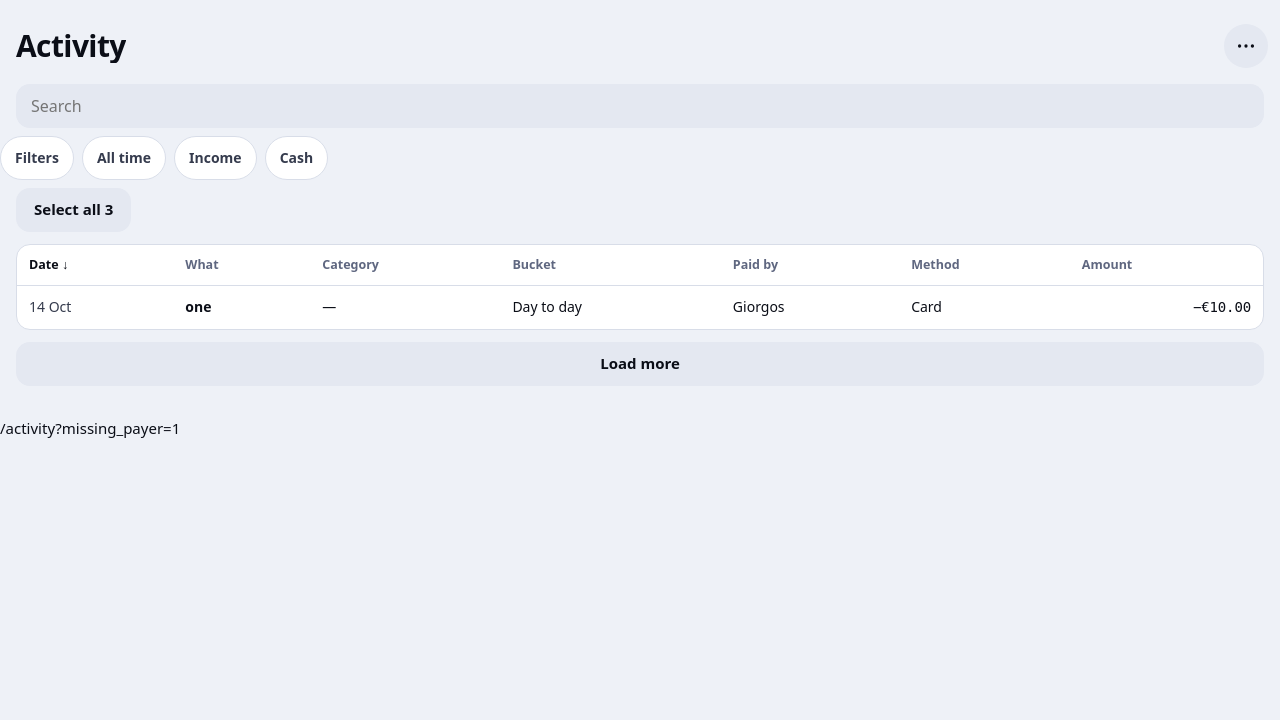
Test case: BulkSheet from Activity › a filter selection shows no total until a preview gives one
The width and height of the screenshot is (1280, 720).
Click the button "Select all 3".
click(74, 210)  # box [16,188,131,232]
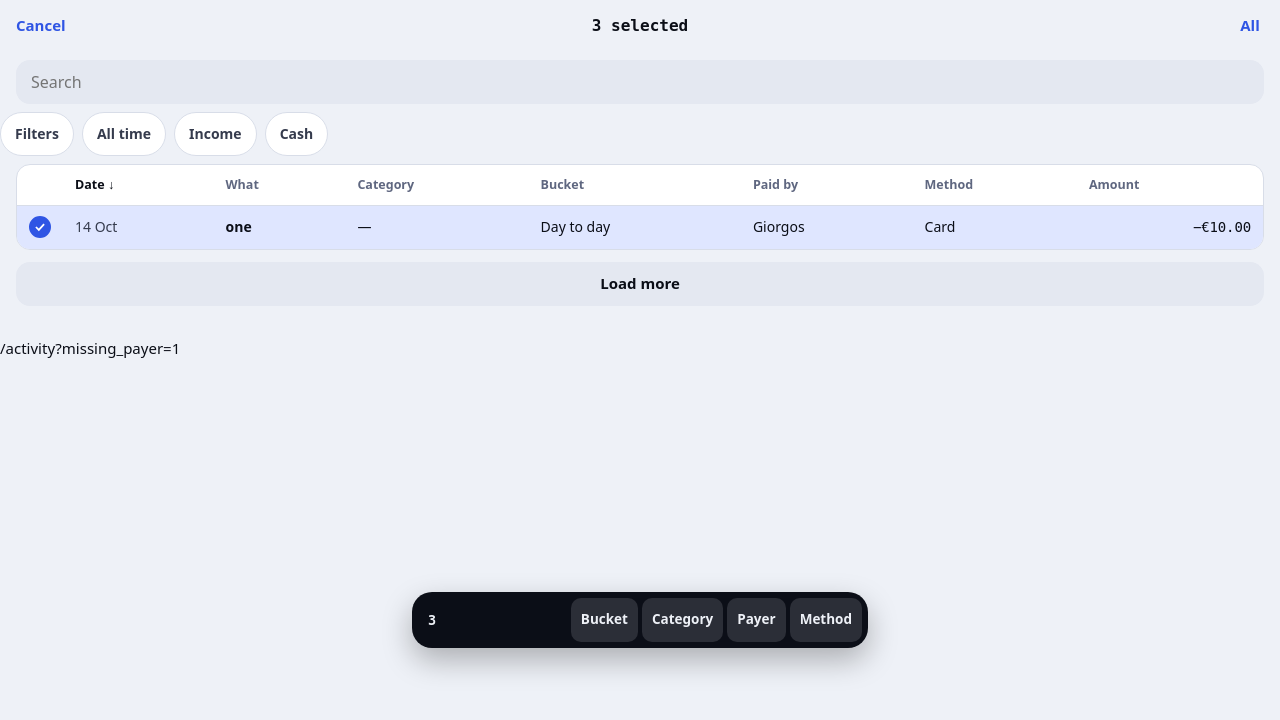
Expected: the element named "Bulk actions for 3 selected" does not show "€", [412,592,868,648]
Click the button "Bucket".
click(604, 620)  # box [571,598,638,642]
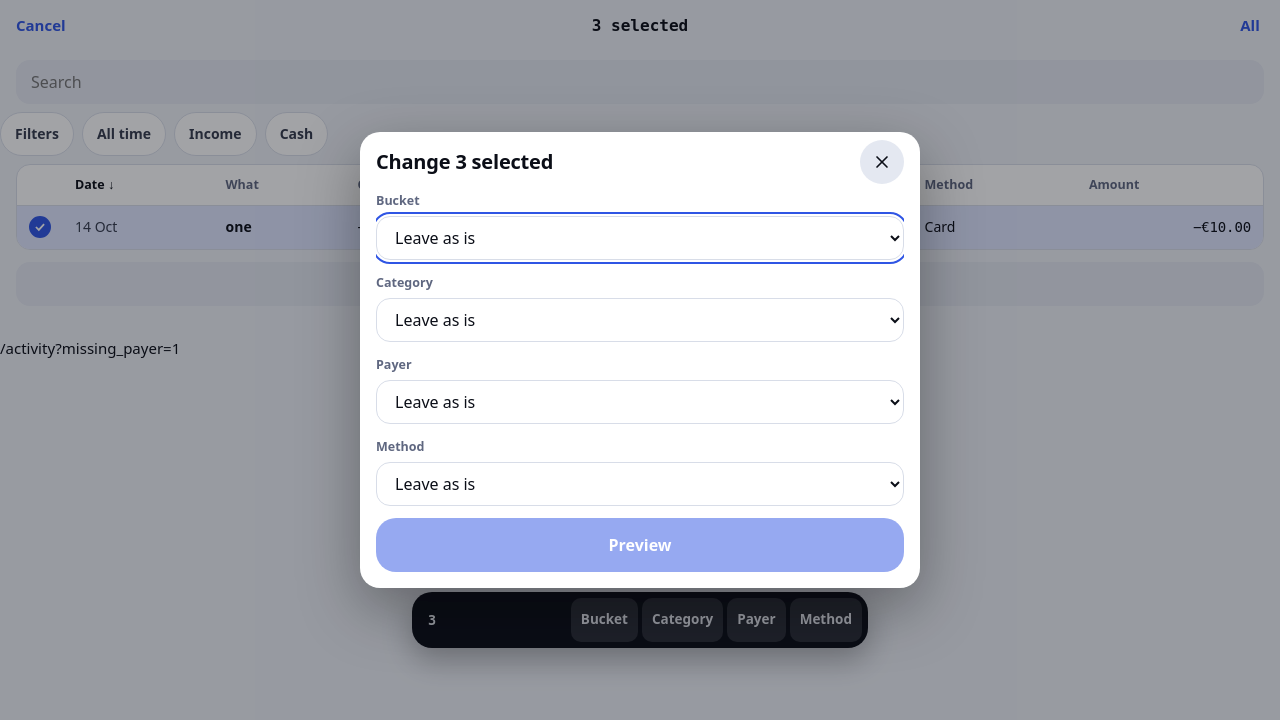
Select "Bills" in the dropdown labelled "Bucket" at (640, 238), box [376,216,904,260]
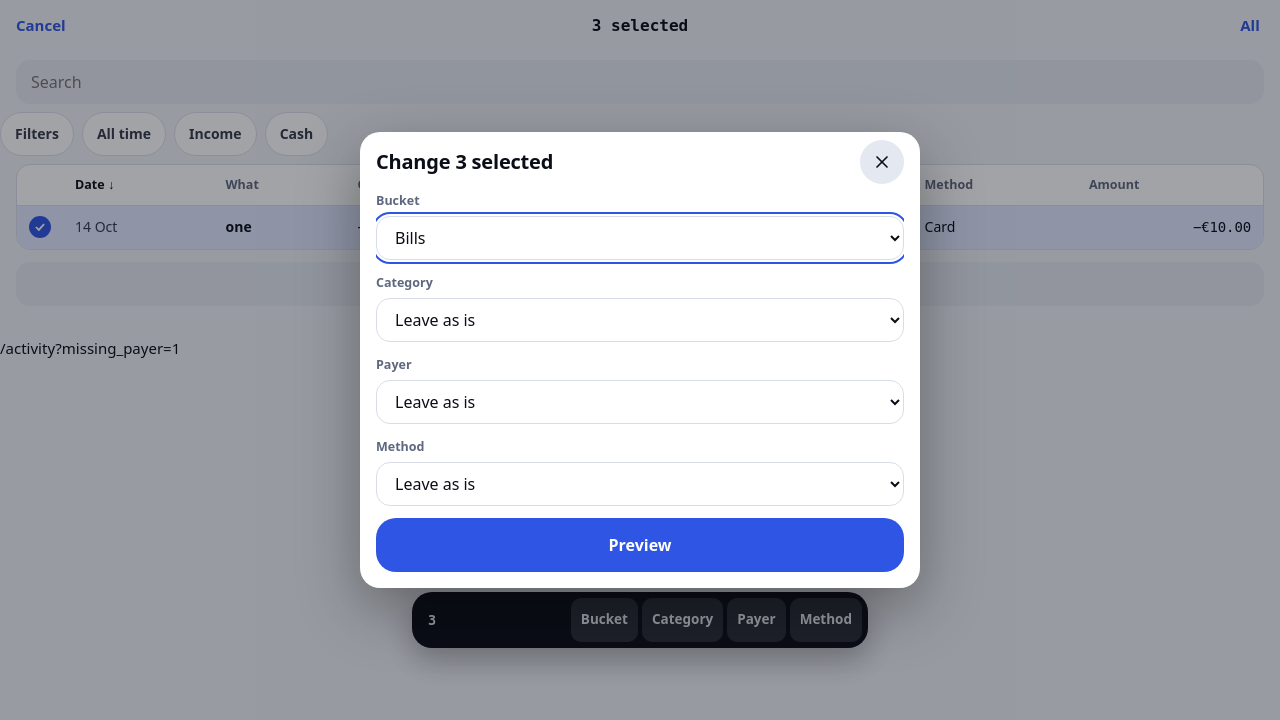
Click the button "Preview".
click(640, 545)  # box [376,518,904,572]
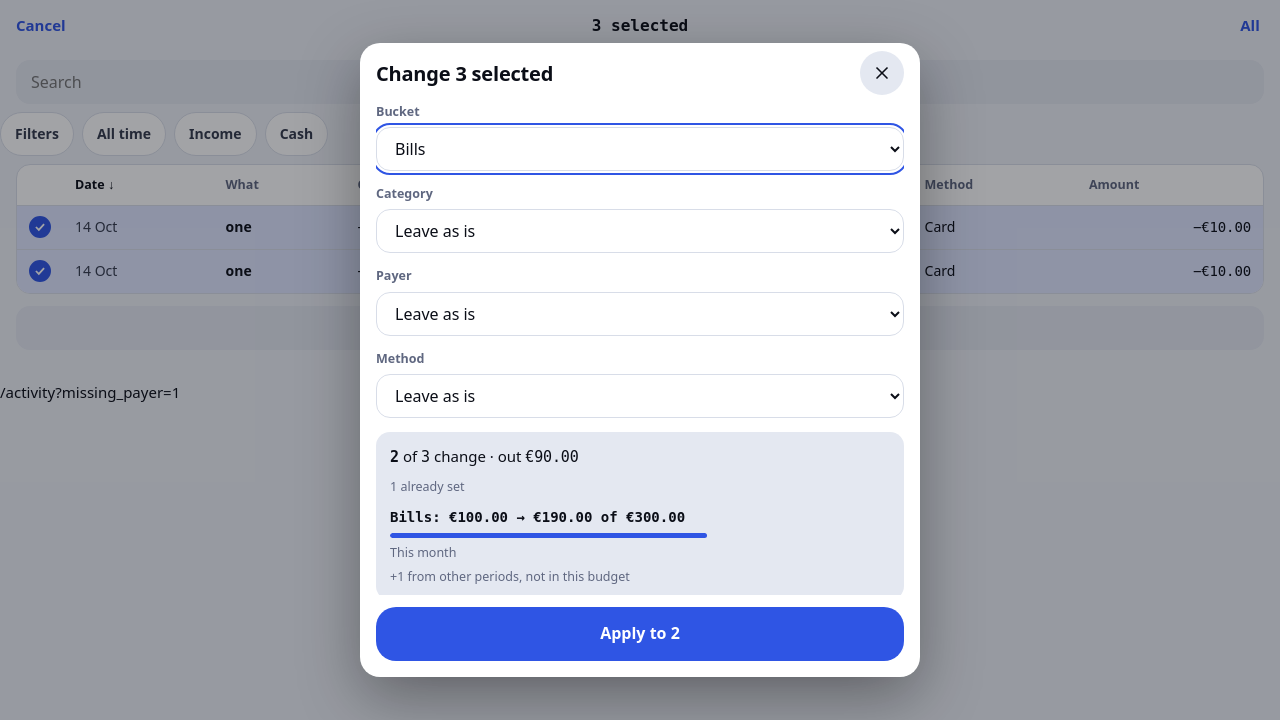
Expected: the button "Apply to 2" is shown, [376,607,904,661]
